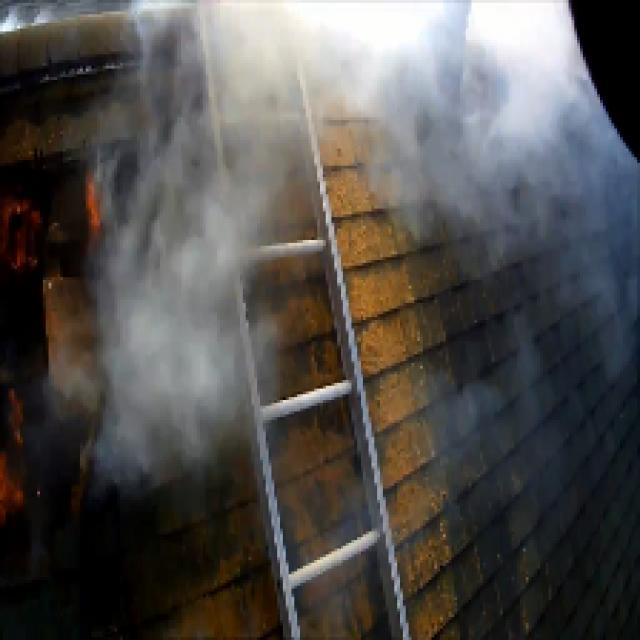smoke: (107, 30, 268, 468), (340, 47, 586, 229)
